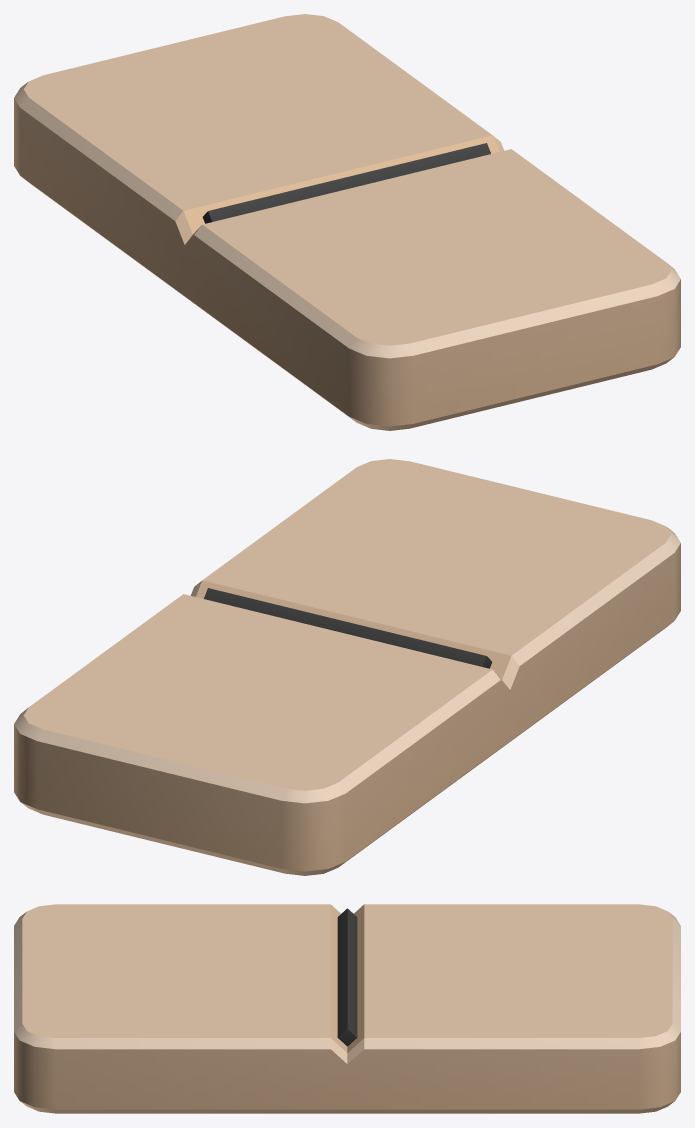
Rendered from domino_tile_0-0.glb.
3 renders of one model, top to bottom at view 1: azimuth 30°, elevation 25°; view 2: azimuth 150°, elevation 25°; view 3: azimuth 270°, elevation 25°, orthographic. The views are drawn at different scales.
Visible parts, largest first — view 1: domino_tile_0-0; view 2: domino_tile_0-0; view 3: domino_tile_0-0.
Part boxes in pixels (left/top/right/bottom): domino_tile_0-0: left=14, top=14, right=680, bottom=430; domino_tile_0-0: left=14, top=459, right=680, bottom=875; domino_tile_0-0: left=14, top=904, right=680, bottom=1113.
Size of the model in its own units: 1 by 0.2586 by 2.
Materials: 1 (1 with a texture image).
